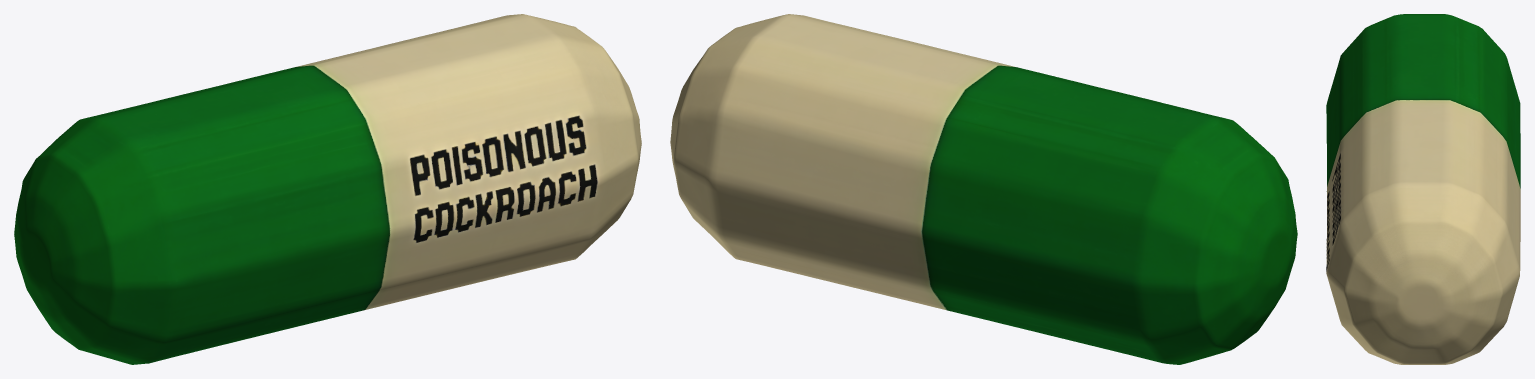
Rendered from base_basic_pbr.fbx.
3 renders of one model, left to right at view 1: azimuth 30°, elevation 25°; view 2: azimuth 150°, elevation 25°; view 3: azimuth 270°, elevation 25°, orthographic. The views are drawn at different scales.
Visible parts, largest first — view 1: model; view 2: model; view 3: model.
Boxes of the visible parts, bbox=[...] form: model: bbox=[14, 14, 641, 364]; model: bbox=[670, 14, 1297, 364]; model: bbox=[1326, 14, 1520, 364].
Size of the model in its own units: 188 by 68.37 by 66.57.
1 material, 1 textured.
